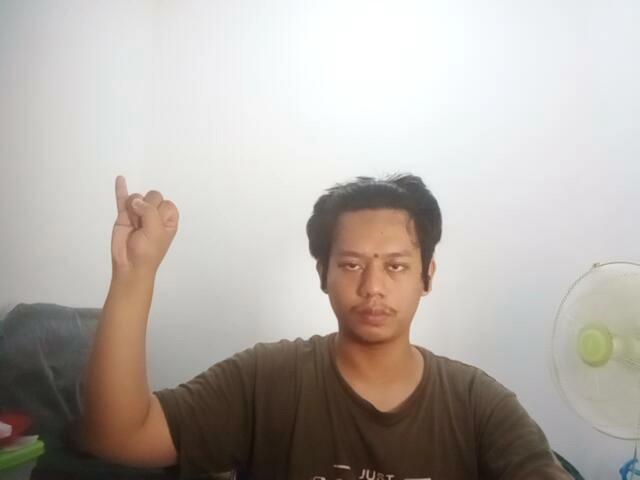I: (96, 168, 197, 278)
